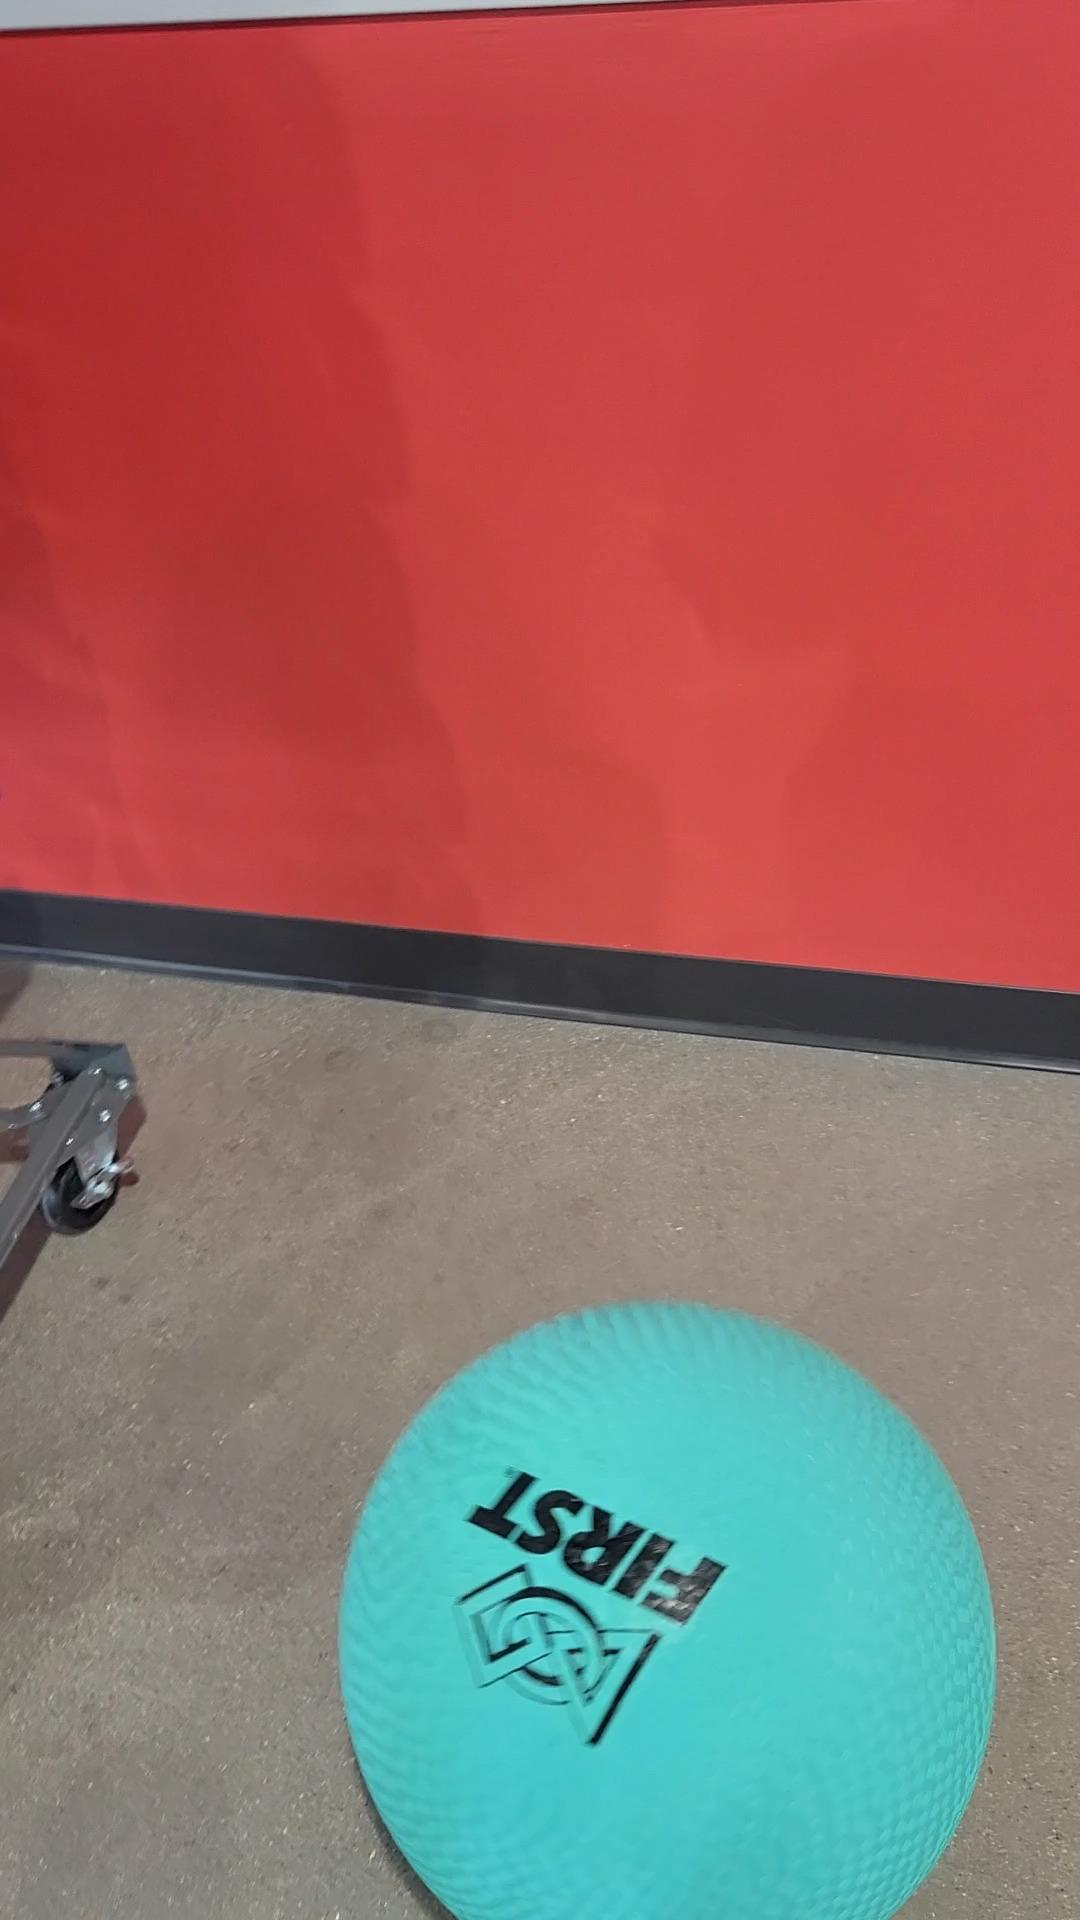algae: (351, 1311, 1002, 1920)
